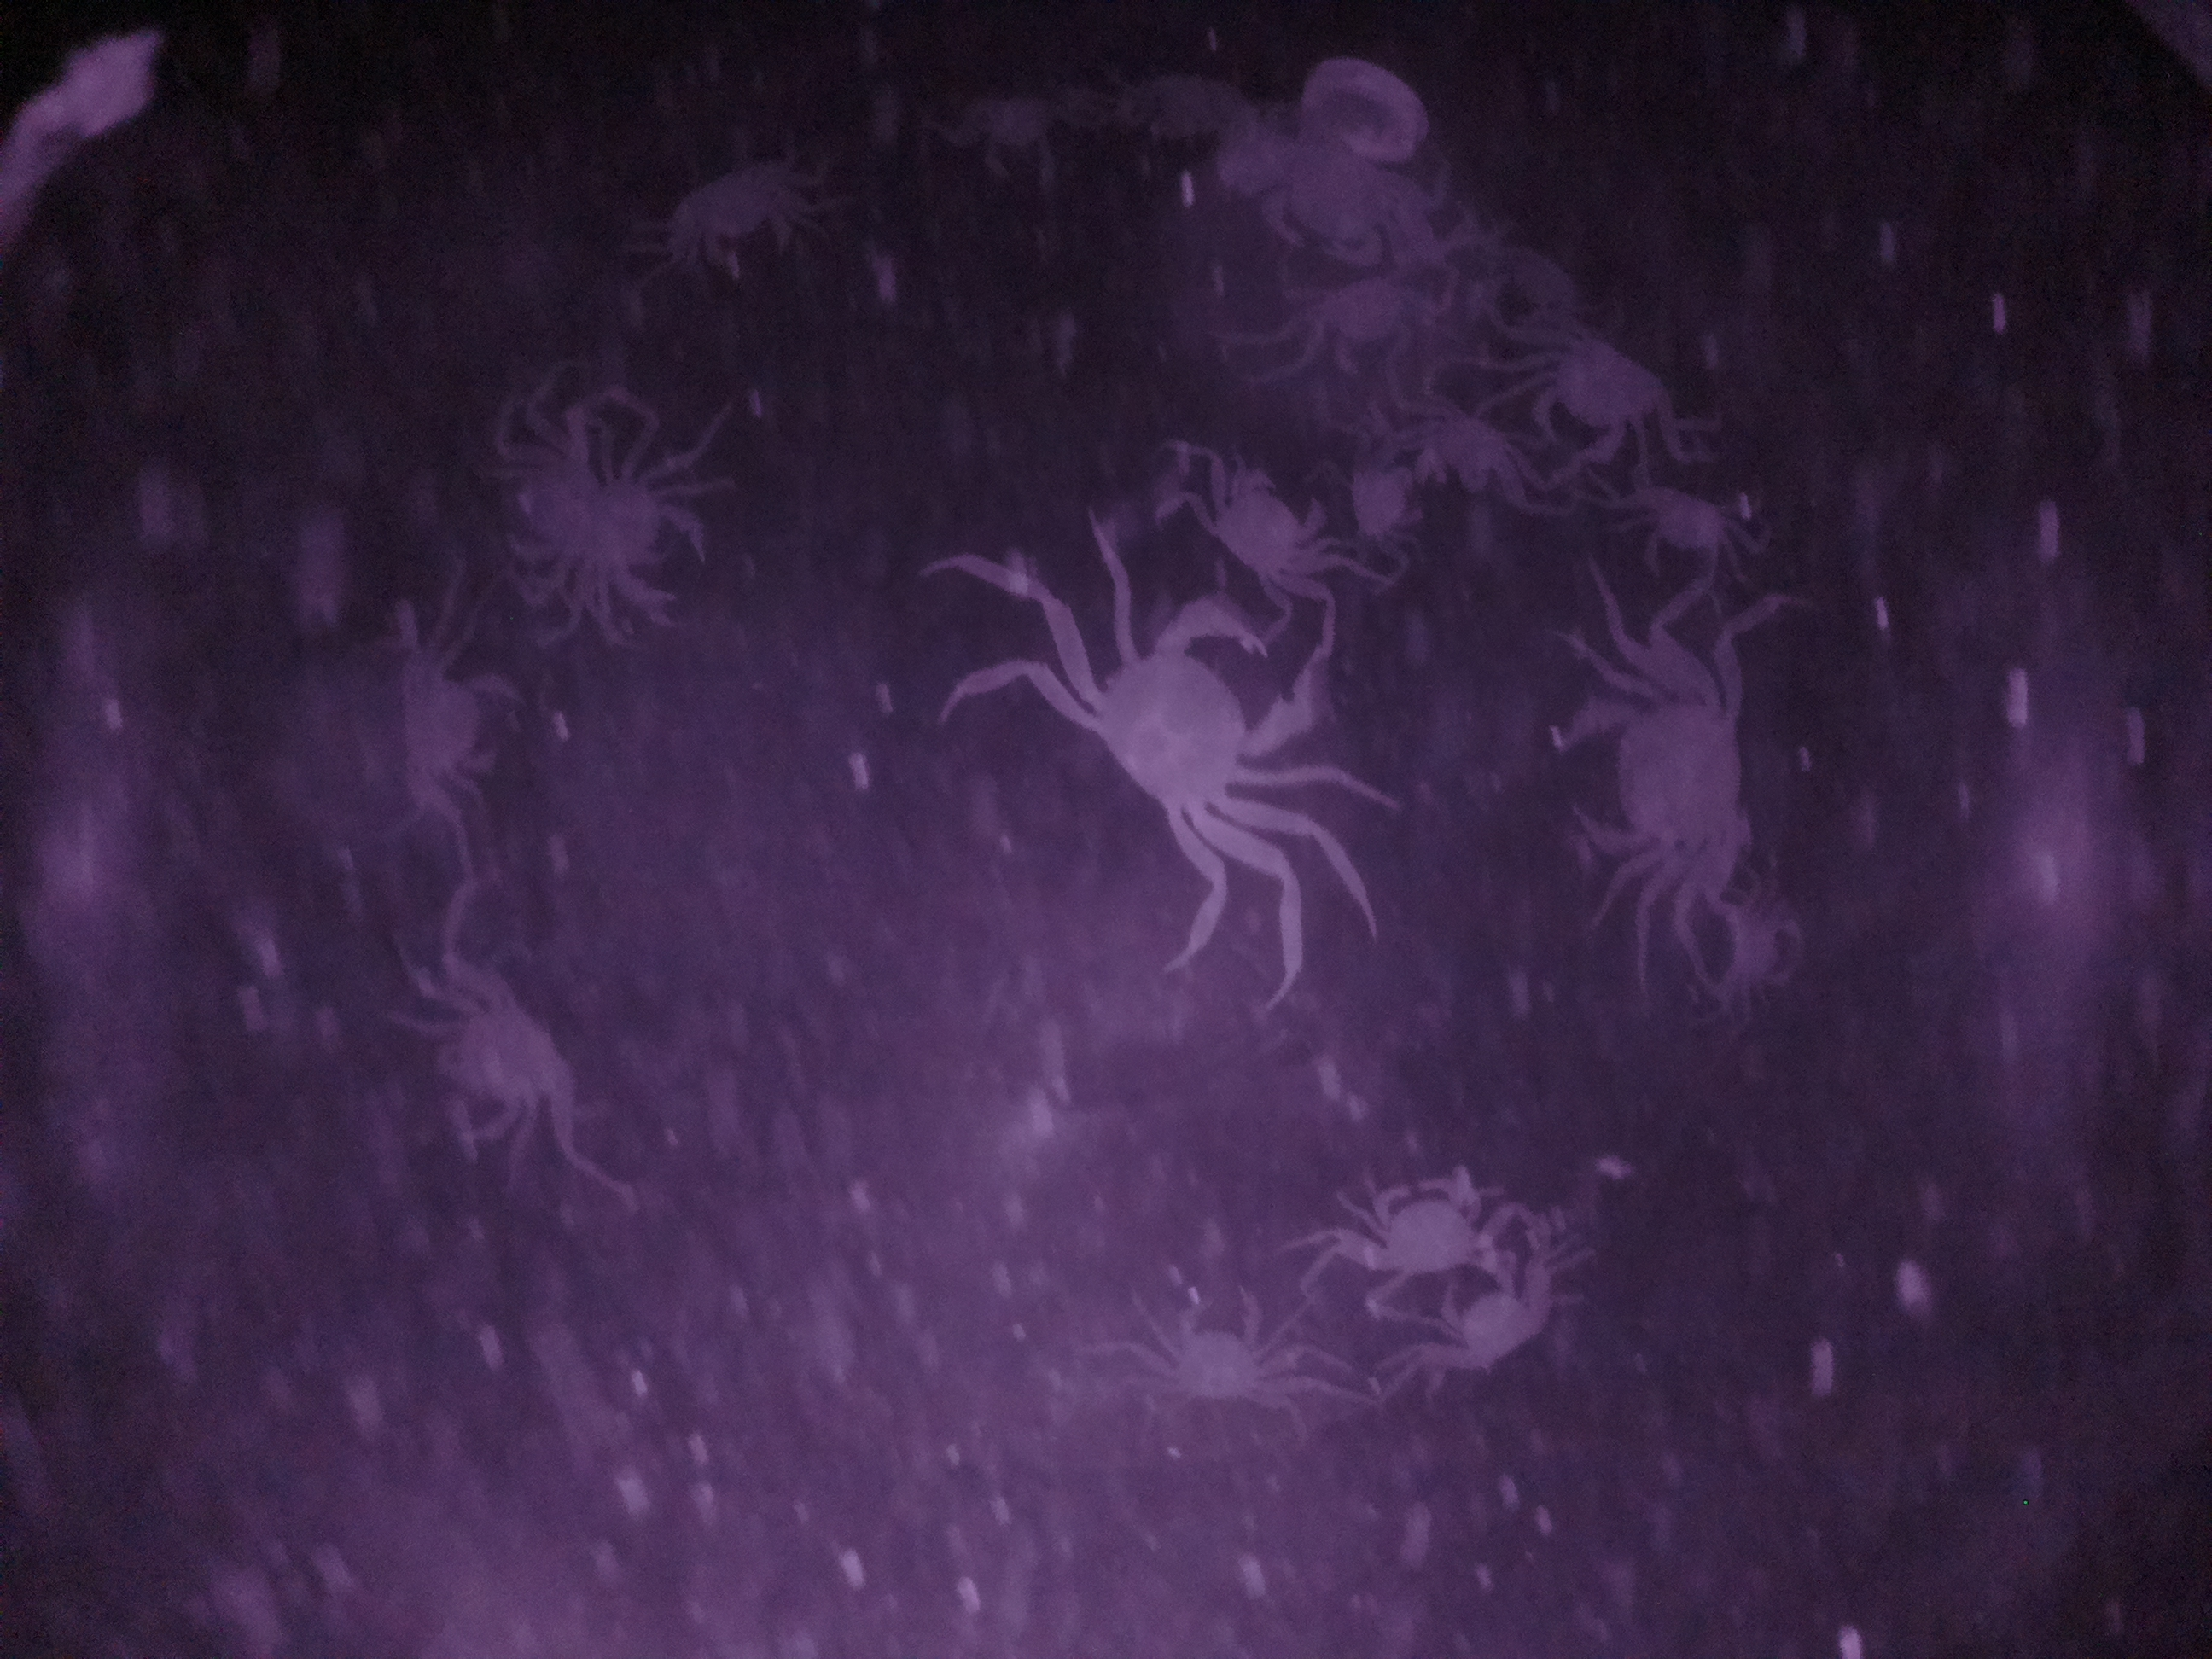Crab: (1026, 608, 1322, 887), (1545, 620, 1771, 904), (385, 938, 573, 1161), (634, 146, 831, 296), (1507, 314, 1686, 477), (1177, 446, 1343, 610), (1317, 1162, 1508, 1298), (1123, 1276, 1289, 1417)
